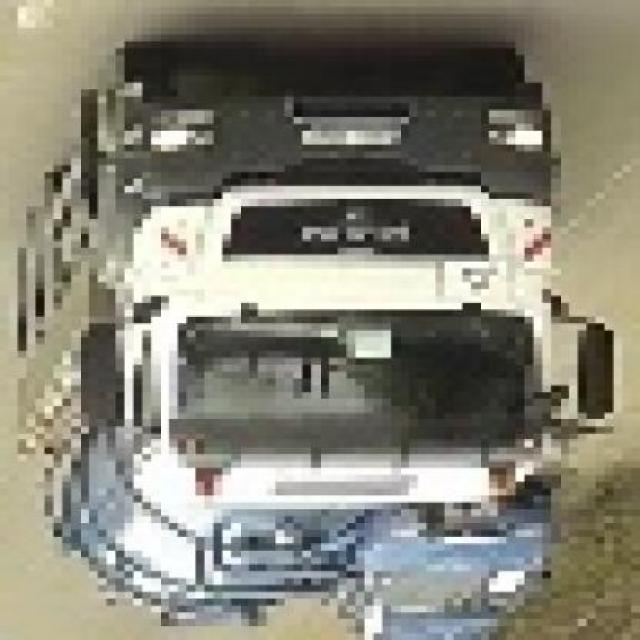truck: (1, 43, 615, 640)
